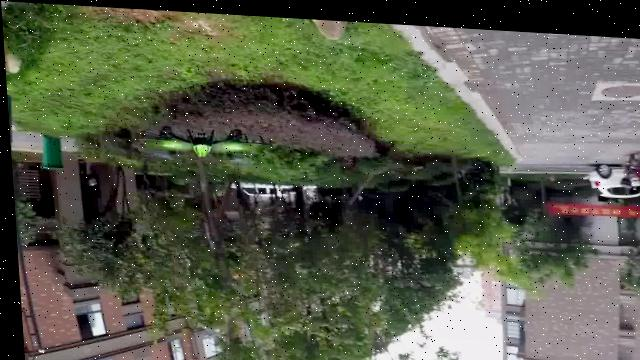drone: (139, 119, 264, 159)
